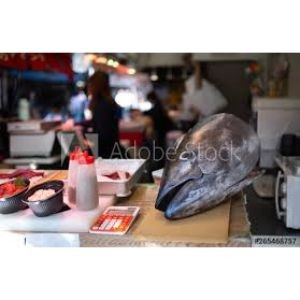tuna_brain food: (153, 109, 260, 219)
